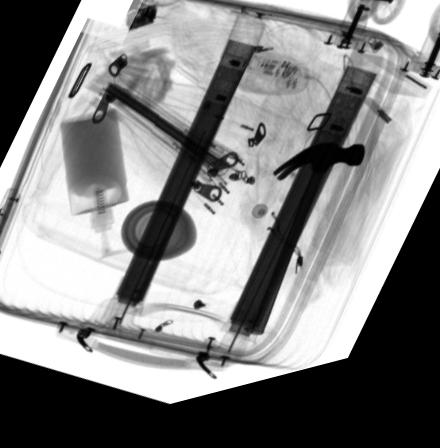Hammer: (248, 159, 365, 349)
